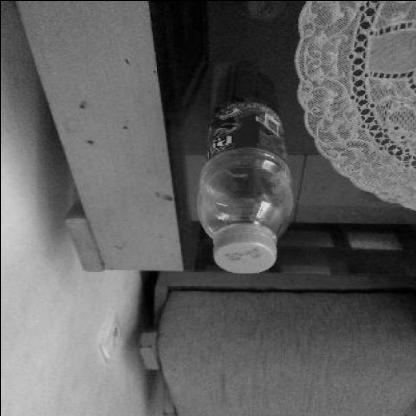plastic_bottles: (188, 95, 296, 278)
